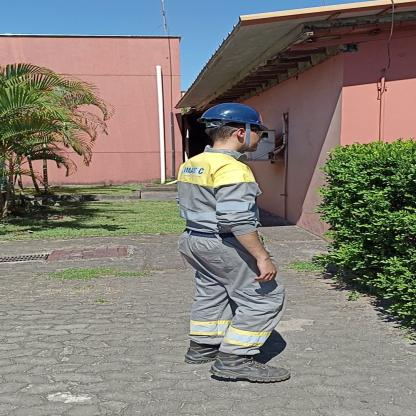Capacete: (202, 99, 267, 126)
